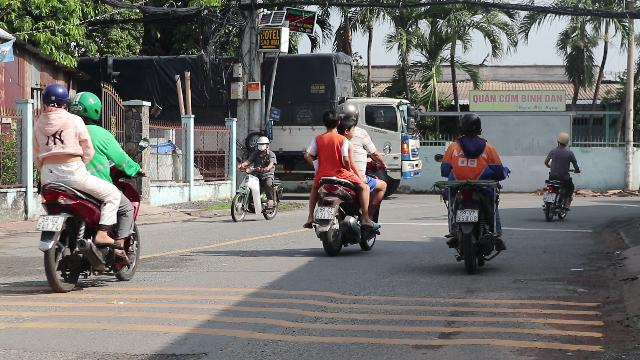helmet: (68, 91, 102, 125), (39, 83, 69, 113), (458, 112, 482, 138), (335, 102, 359, 124), (256, 136, 270, 152)
licenseplate: (38, 215, 62, 231), (457, 210, 478, 222), (316, 206, 334, 220)
motorcyclist: (29, 82, 147, 290), (302, 102, 386, 256), (432, 111, 510, 271), (229, 134, 281, 222)
nohelmet: (336, 117, 356, 141), (320, 110, 340, 132)
